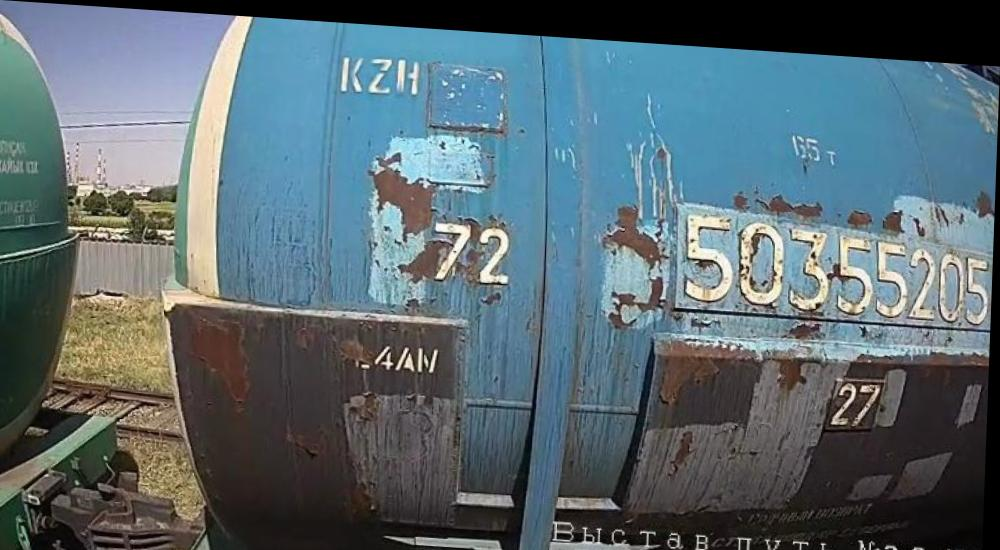Wagon-number: (678, 197, 994, 318)
